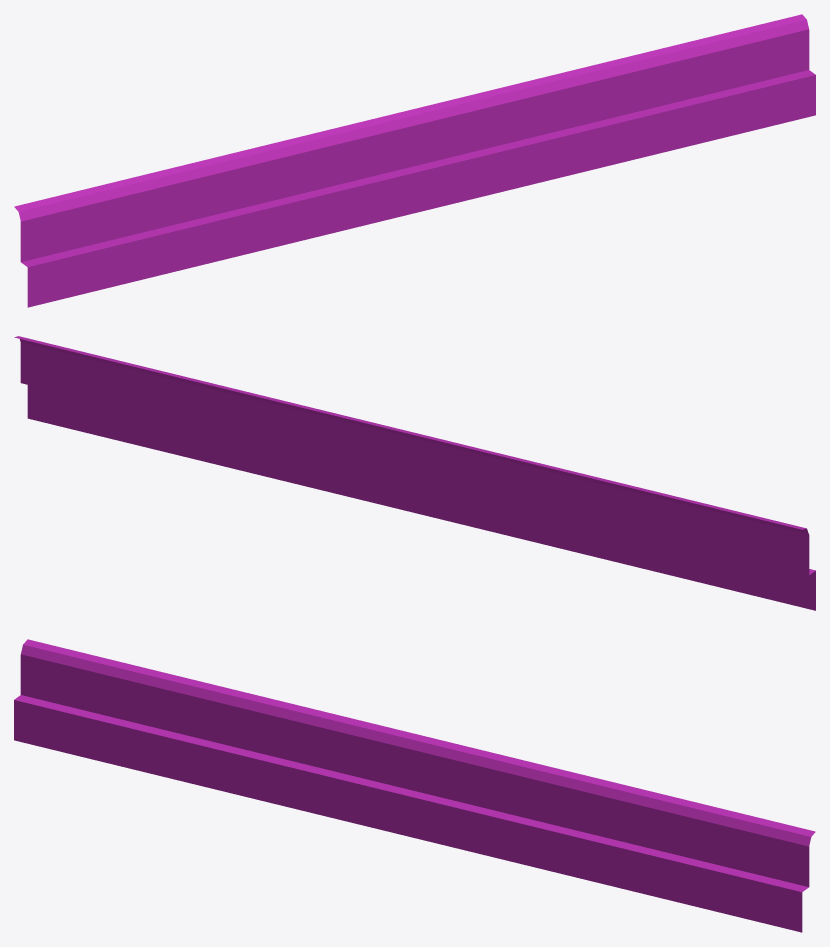
File: plint.FBX
The picture shows the model from 3 angles, top to bottom: view 1: azimuth 30°, elevation 25°; view 2: azimuth 150°, elevation 25°; view 3: azimuth 330°, elevation 25°; orthographic projection.
Visible parts, largest first — view 1: Plane002; view 2: Plane002; view 3: Plane002.
Boxes of the visible parts, box(x1,y1,x2,y2) form: Plane002: box(14, 14, 815, 307); Plane002: box(14, 336, 815, 610); Plane002: box(14, 639, 815, 932).
Size of the model in its own units: 4 by 0.4417 by 0.12.
